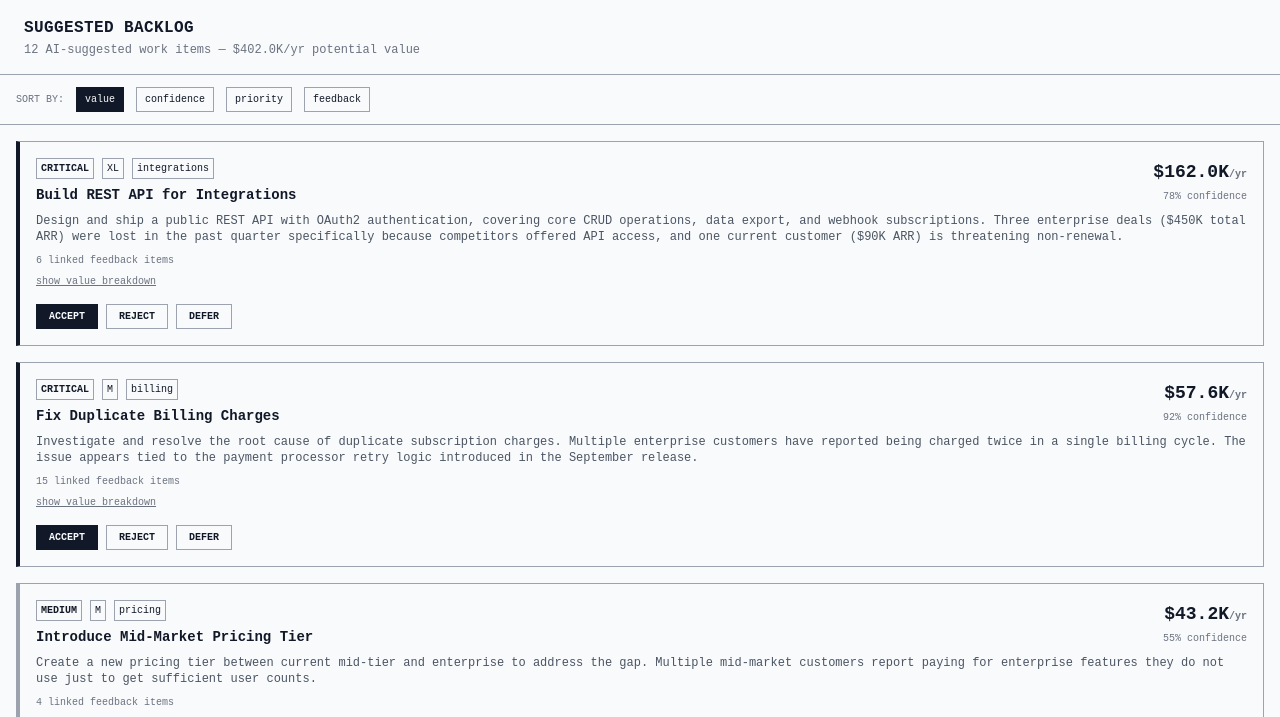
SuggestedItemsList › Accept button changes status
Note: Find first Accept button and click it
Click the button "Accept" below "Build REST API for Integrations" at (67, 316), box [36,304,98,329]
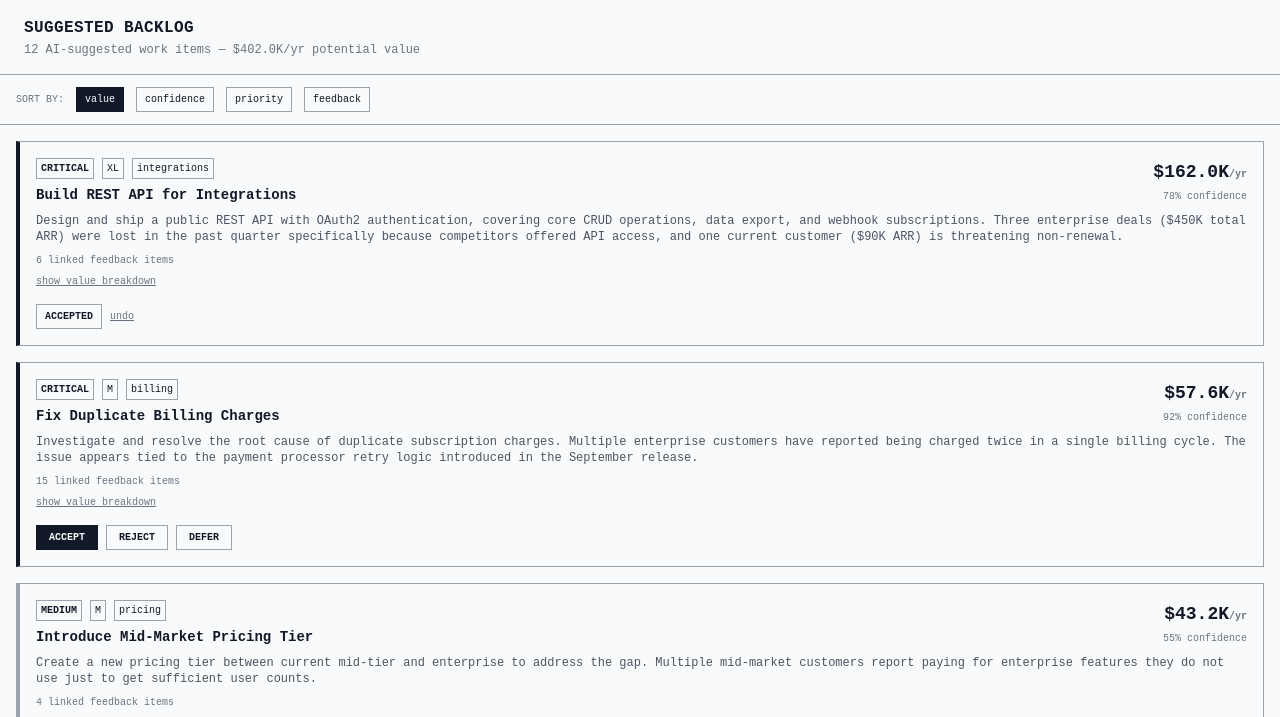
expect the text "accepted" is shown: met, box [36,304,102,329]
